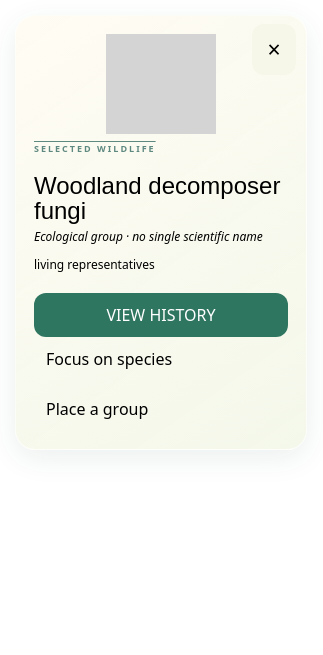
Test: separates hypothetical future outcomes and explicitly reports missing research
Click the button "VIEW HISTORY" at (161, 315), box [34,293,288,337]
(page scrolled)
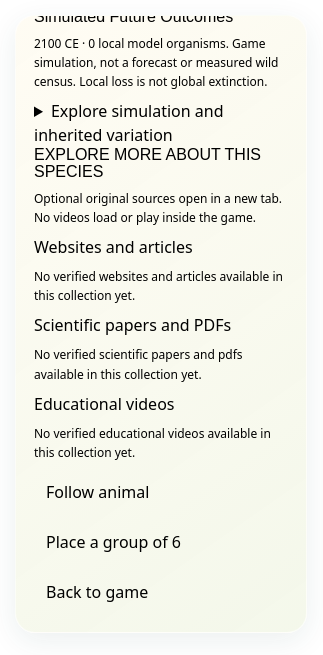
Now the text "No verified educational videos" is shown, box [34,424,288,462]
